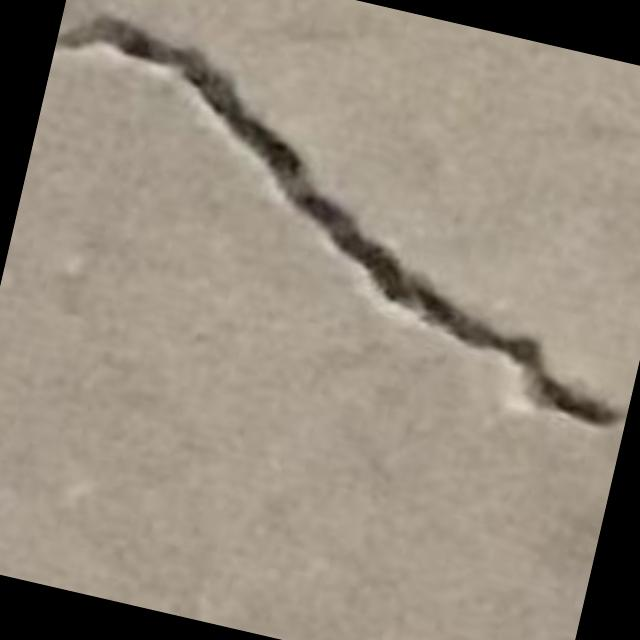crack: (56, 18, 626, 428)
